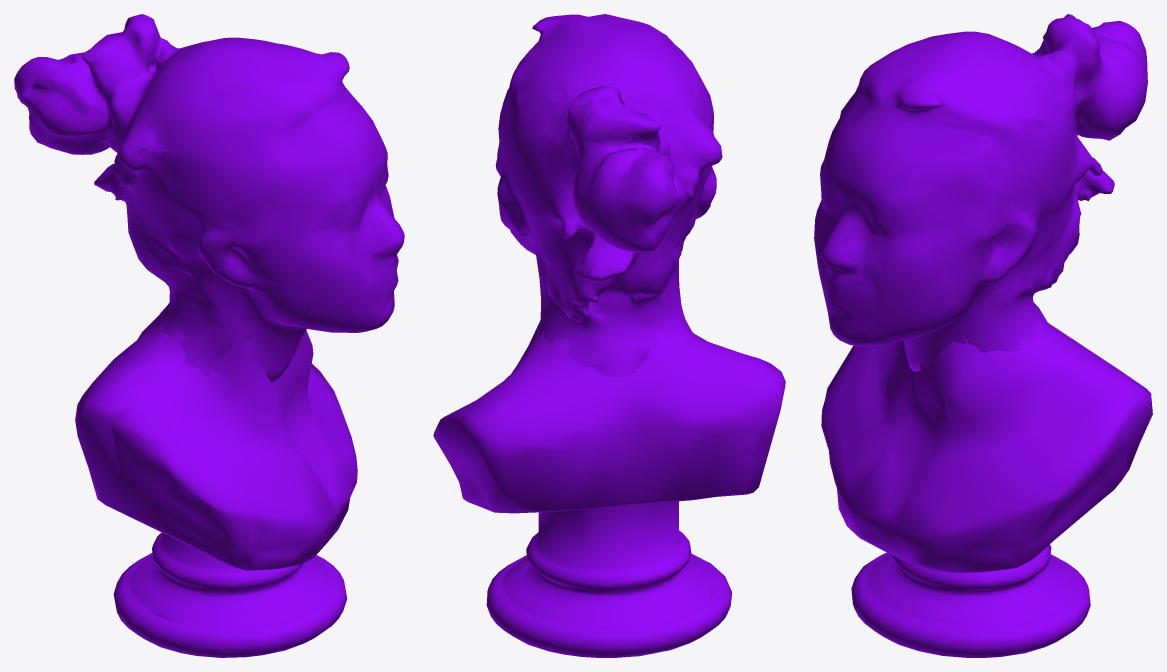
The model's file is Statue_Tyna_2.glb.
3 views of the same model, side by side, from view 1: azimuth 30°, elevation 25°; view 2: azimuth 150°, elevation 25°; view 3: azimuth 270°, elevation 25° (orthographic).
Visible parts, largest first — view 1: mira; view 2: mira; view 3: mira.
Part boxes in pixels (<box>): mira: <box>14,14,404,657</box>; mira: <box>433,14,785,657</box>; mira: <box>814,14,1152,657</box>.
Size of the model in its own units: 0.1126 by 0.2084 by 0.1118.
